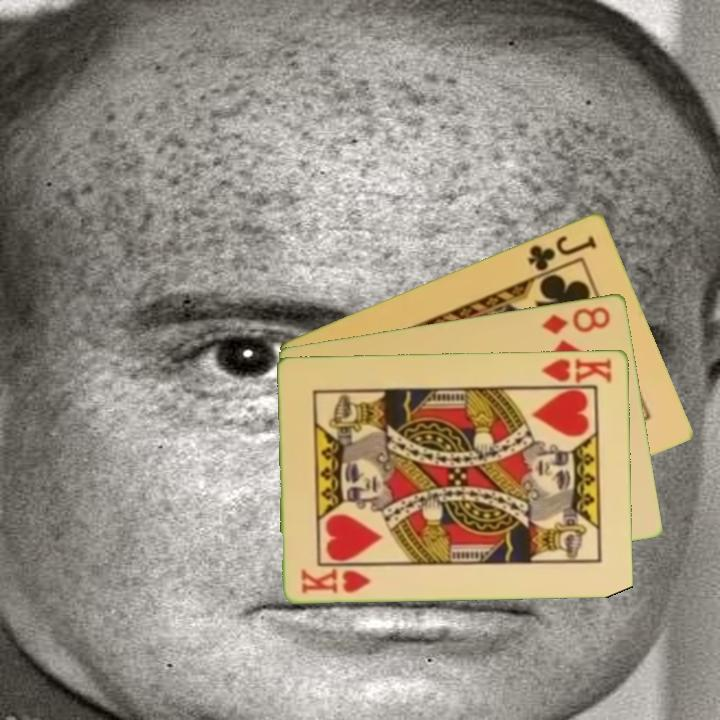8d: (538, 302, 613, 337)
Jc: (524, 231, 600, 274)
Kh: (535, 354, 615, 389), (298, 564, 374, 596)
